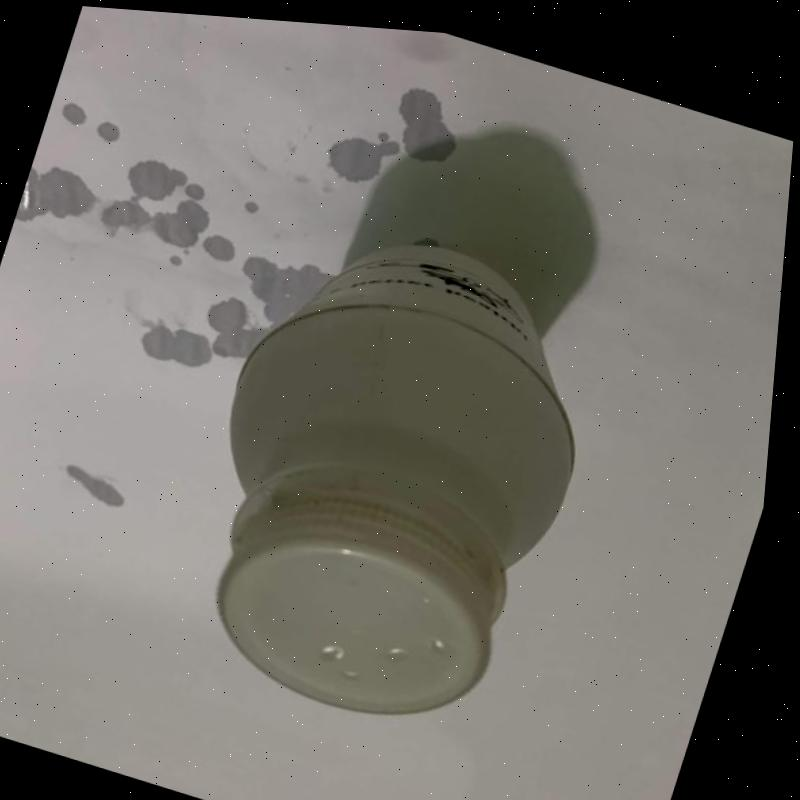botella: (152, 182, 641, 750)
